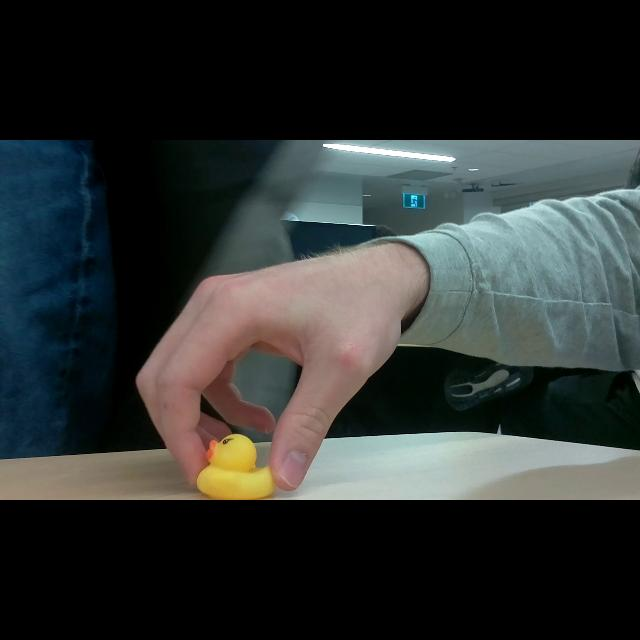duck_regular: (199, 433, 277, 500)
